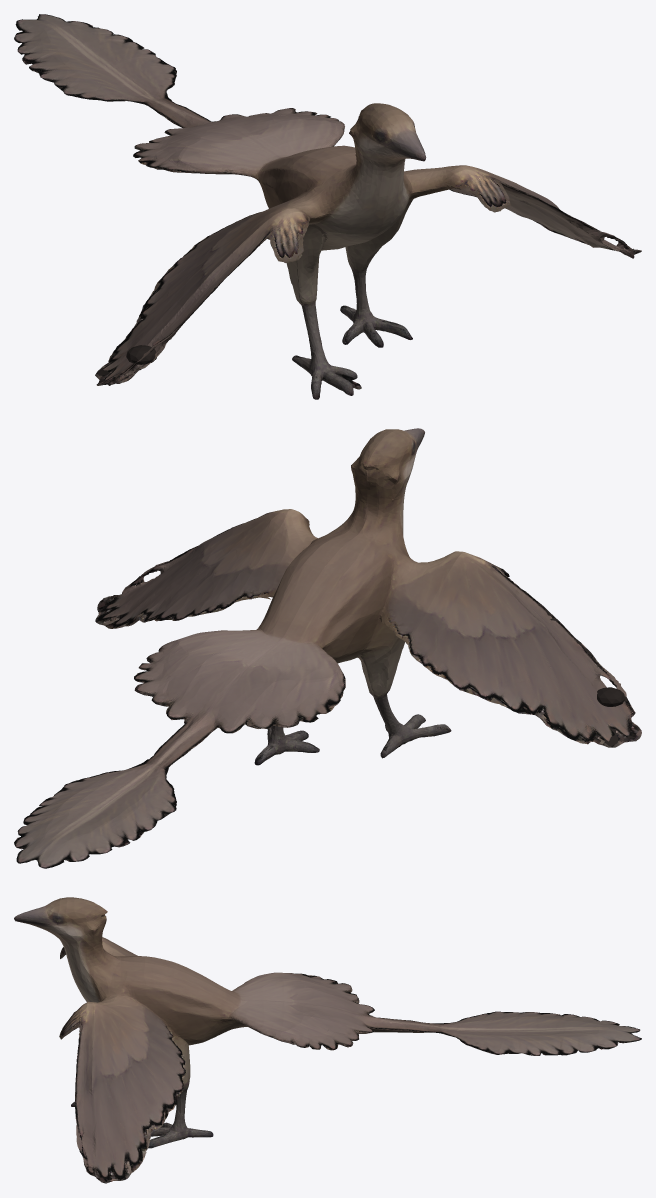
3 renders of one model, top to bottom at view 1: azimuth 30°, elevation 25°; view 2: azimuth 150°, elevation 25°; view 3: azimuth 270°, elevation 25°, orthographic. The views are drawn at different scales.
Parts seen in each view (by area): view 1: geometry_0; view 2: geometry_0; view 3: geometry_0.
Boxes of the visible parts, <box> form: geometry_0: <box>14,14,641,399</box>; geometry_0: <box>14,428,641,868</box>; geometry_0: <box>14,897,641,1183</box>.
Size of the model in its own units: 0.596 by 0.297 by 0.75.
Materials: 1 (1 with a texture image).
